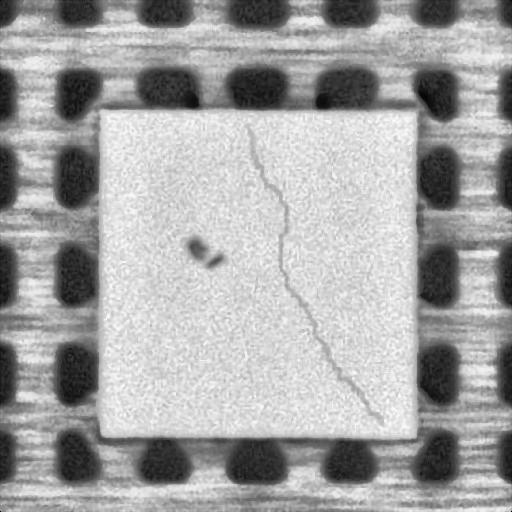DIE_CRACK: (242, 128, 380, 422)
